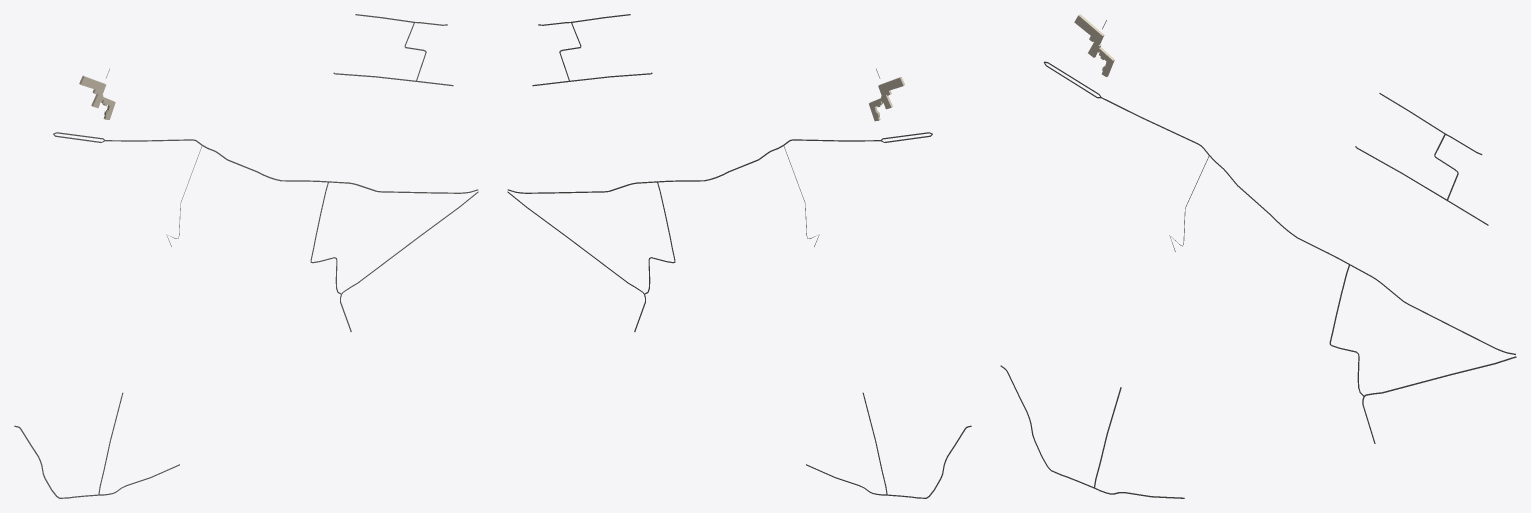
Rendered from amman_3586_3185.glb.
The picture shows the model from 3 angles, left to right: view 1: azimuth 30°, elevation 25°; view 2: azimuth 150°, elevation 25°; view 3: azimuth 330°, elevation 25°; orthographic projection. The views are drawn at different scales.
Visible parts, largest first — view 1: Road .001, Building_; view 2: Road .001, Building_; view 3: Road .001, Building_.
Boxes of the visible parts, x1,y1,x2,y2 form: Road .001: (105, 139, 478, 193); Building_: (79, 75, 115, 119); Road .001: (507, 139, 880, 193); Building_: (869, 77, 904, 121); Road .001: (1101, 97, 1515, 354); Building_: (1074, 14, 1114, 76).
Size of the model in its own units: 1281 by 1123 by 8.7.
